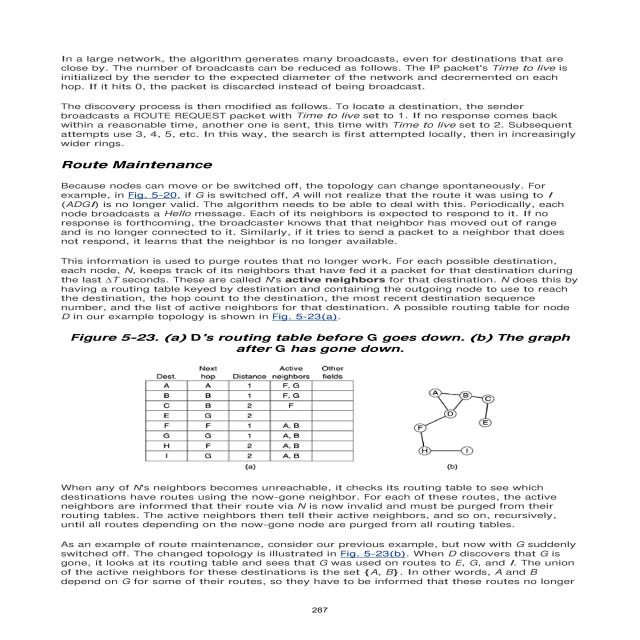diagram: (47, 332, 600, 480)
